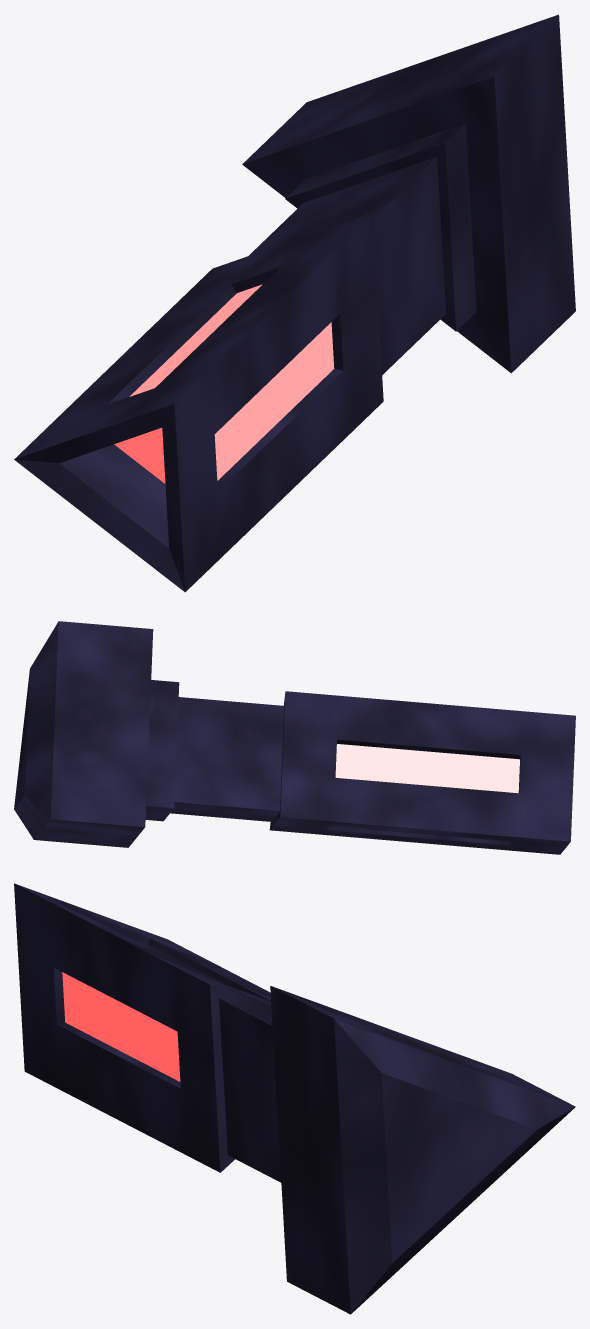
The model's file is station.glb.
3 views of the same model, one above another, from view 1: azimuth 30°, elevation 25°; view 2: azimuth 150°, elevation 25°; view 3: azimuth 270°, elevation 25° (orthographic). The views are drawn at different scales.
Parts seen in each view (by area): view 1: SOS_Beacon_station; view 2: SOS_Beacon_station; view 3: SOS_Beacon_station.
Part boxes in pixels (bbox=[...]): SOS_Beacon_station: bbox=[14, 14, 575, 592]; SOS_Beacon_station: bbox=[14, 621, 575, 854]; SOS_Beacon_station: bbox=[14, 883, 575, 1314].
Size of the model in its own units: 0.7764 by 0.3585 by 0.6172.
Materials: 2 (1 with a texture image).
